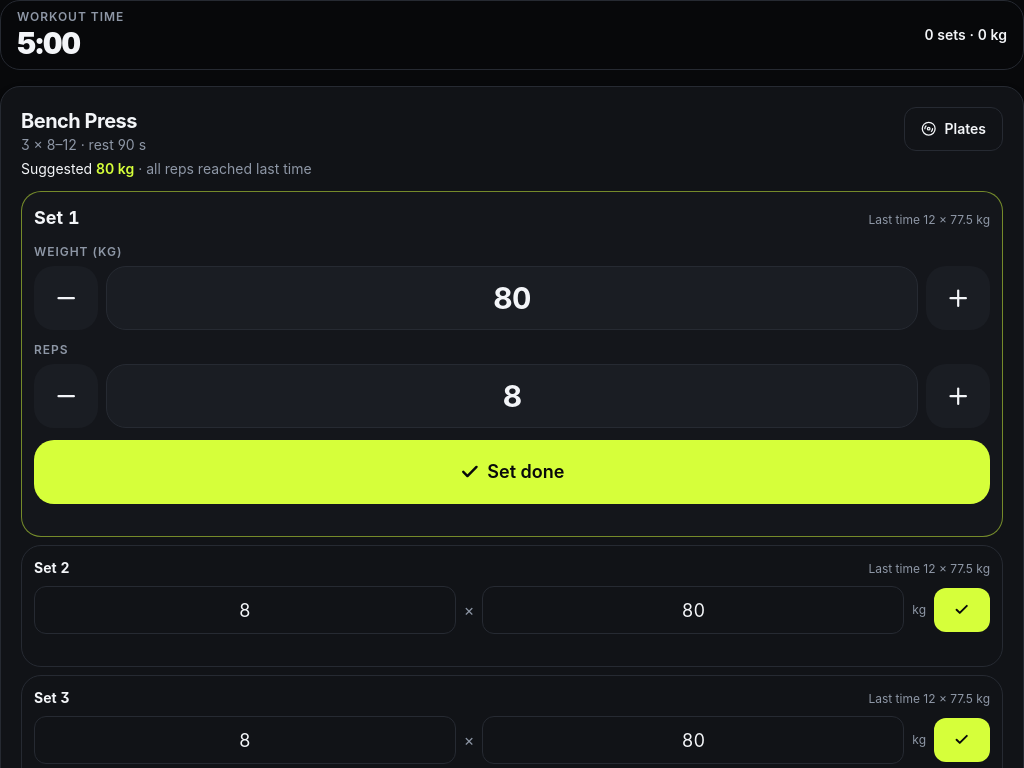
Test case: workout screen › opens the plate calculator with the API's answer
Click the button "Plates": x=954, y=129 [904,107,1003,151]
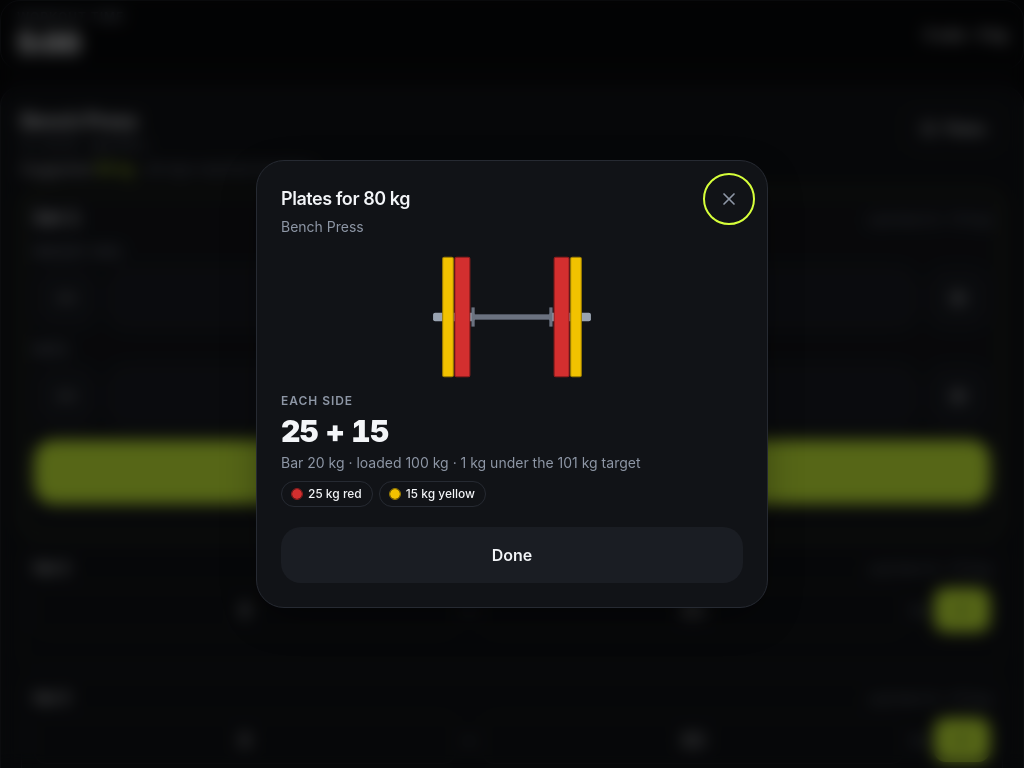
Expected: the text with test id "plates-per-side" reads "25 + 15", [281,413,388,449]
Click the button named "Close": x=729, y=199 [707,177,751,221]
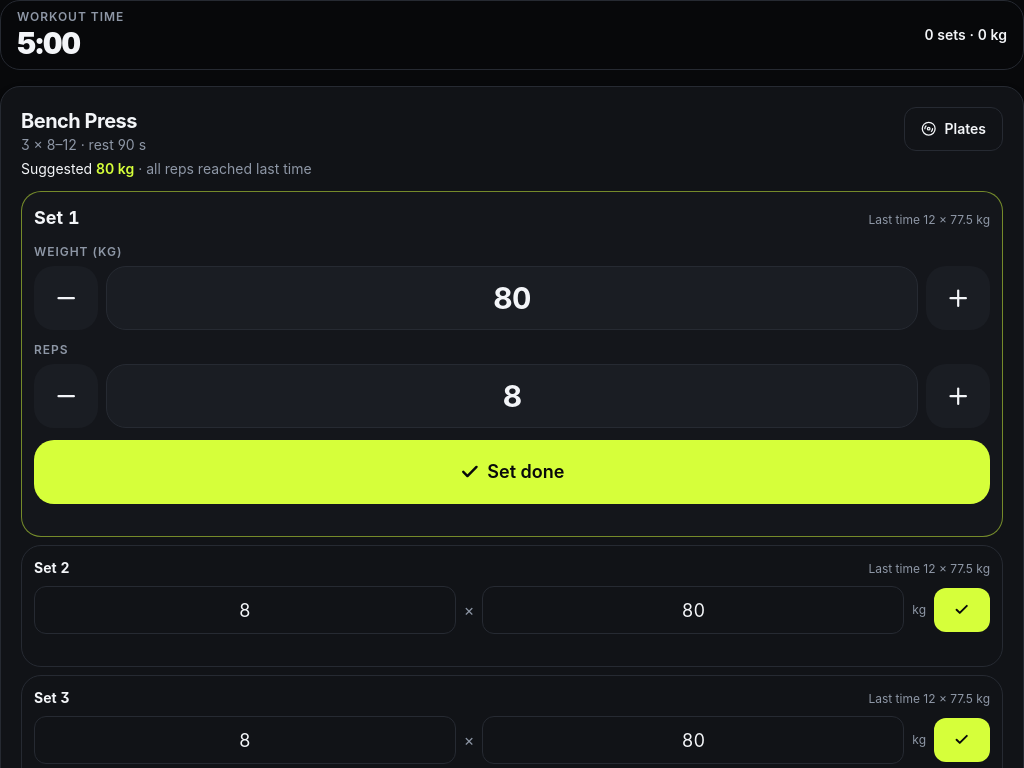
Expected: the dialog is gone
